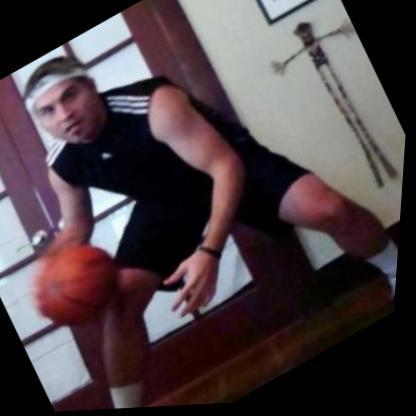basketball: (17, 222, 142, 343)
